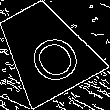O_NW: (12, 17, 80, 83)
